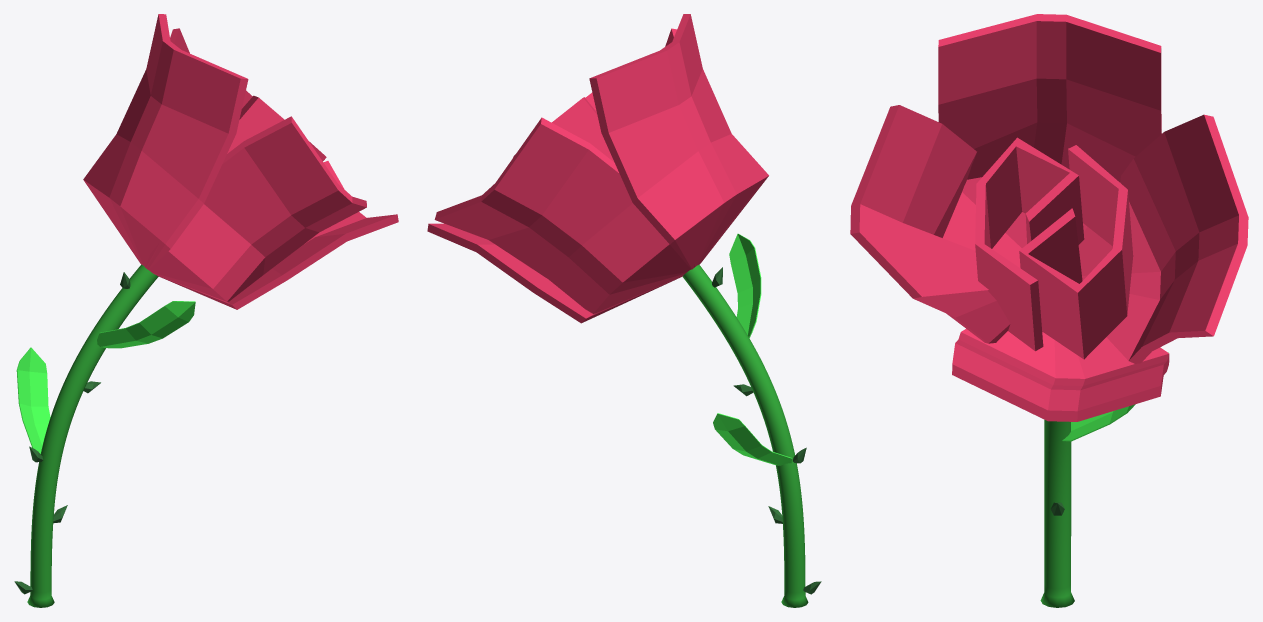
The model's file is Rose-1.fbx.
3 views of the same model, side by side, from view 1: azimuth 30°, elevation 25°; view 2: azimuth 150°, elevation 25°; view 3: azimuth 270°, elevation 25° (orthographic). The views are drawn at different scales.
Parts seen in each view (by area): view 1: NurbsPath.002; view 2: NurbsPath.002; view 3: NurbsPath.002.
Boxes of the visible parts, bbox=[...] form: NurbsPath.002: bbox=[14, 14, 398, 607]; NurbsPath.002: bbox=[427, 14, 821, 607]; NurbsPath.002: bbox=[850, 14, 1248, 607].
Bounding box in the file's own units: 2.11 × 2.74 × 3.88.
